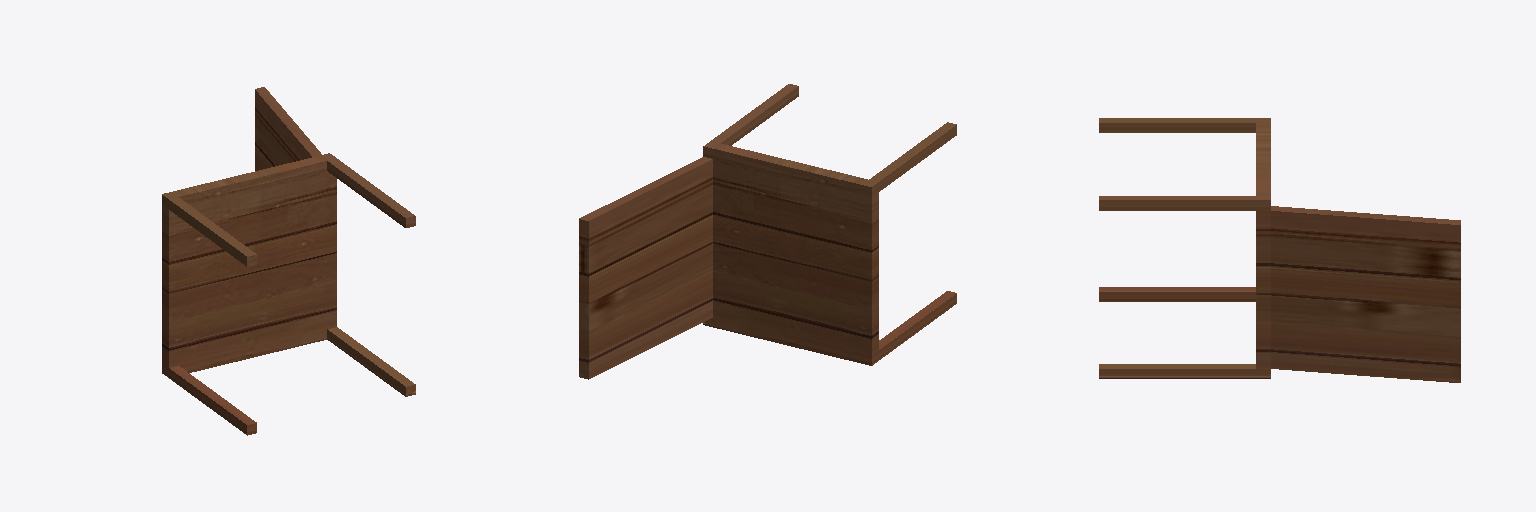
3 renders of one model, left to right at view 1: azimuth 30°, elevation 25°; view 2: azimuth 150°, elevation 25°; view 3: azimuth 270°, elevation 25°, orthographic.
Visible parts, largest first — view 1: store-wood-chair_Circle.017; view 2: store-wood-chair_Circle.017; view 3: store-wood-chair_Circle.017.
Part boxes in pixels (x1,y1,x2,y2): store-wood-chair_Circle.017: (162, 87, 415, 435); store-wood-chair_Circle.017: (579, 84, 956, 379); store-wood-chair_Circle.017: (1099, 118, 1460, 382).
Size of the model in its own units: 0.6178 by 0.5331 by 0.977.
1 materials, 1 textured.